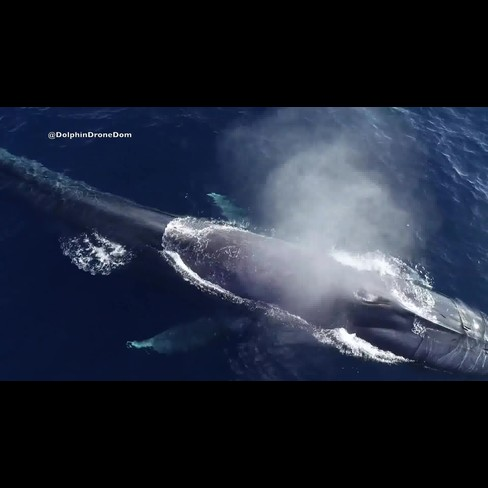bluewhale: (1, 144, 488, 380)
